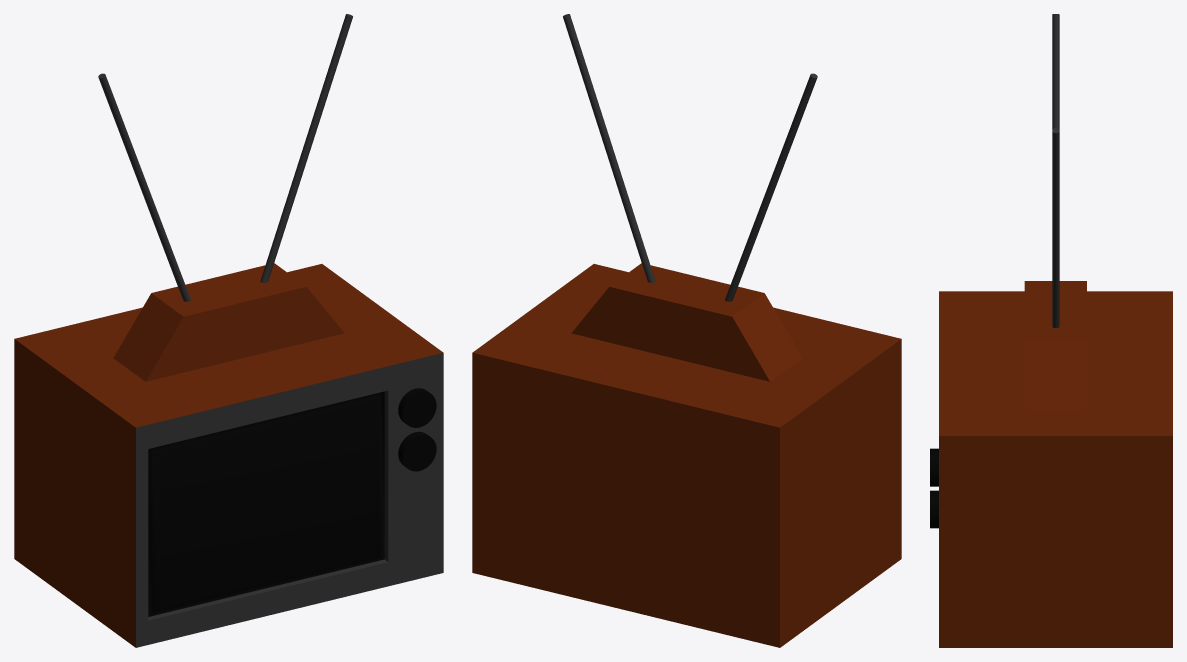
Rendered from OldTV.fbx.
3 renders of one model, left to right at view 1: azimuth 30°, elevation 25°; view 2: azimuth 150°, elevation 25°; view 3: azimuth 270°, elevation 25°, orthographic. The views are drawn at different scales.
Visible parts, largest first — view 1: Cube; view 2: Cube; view 3: Cube.
Part boxes in pixels (x1,y1,x2,y2): Cube: [14, 14, 443, 647]; Cube: [472, 14, 901, 647]; Cube: [930, 14, 1172, 647].
Size of the model in its own units: 292 by 474 by 207.
